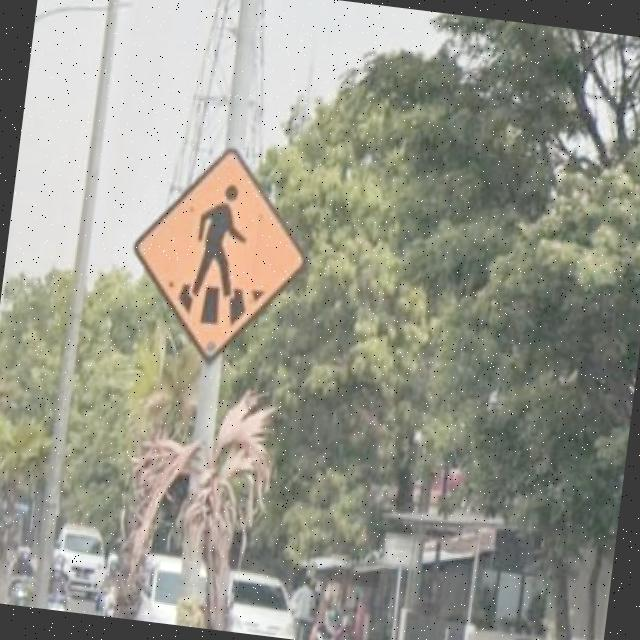Przejscie dla pieszych: (132, 136, 315, 366)
